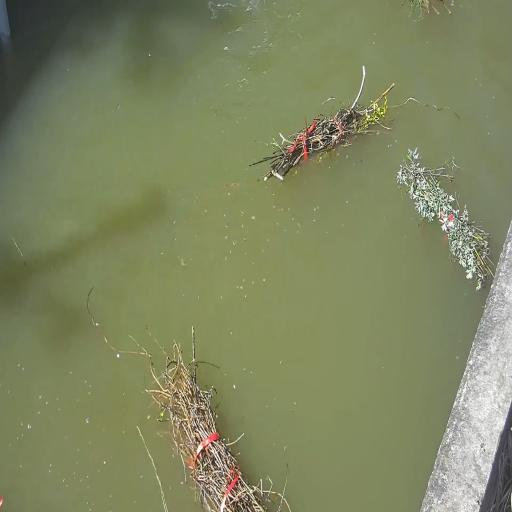twig: (145, 326, 288, 512), (250, 65, 394, 181), (396, 147, 493, 289)
